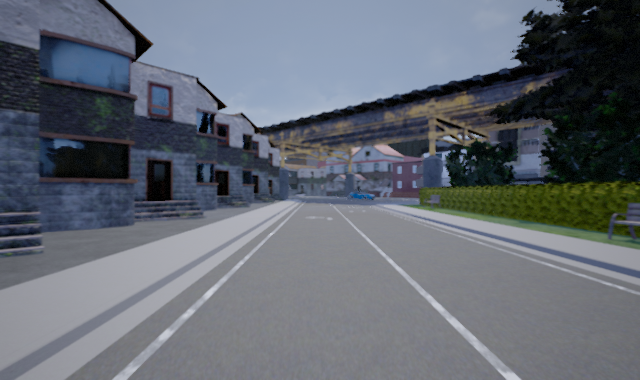vehicle: (347, 190, 376, 201)
